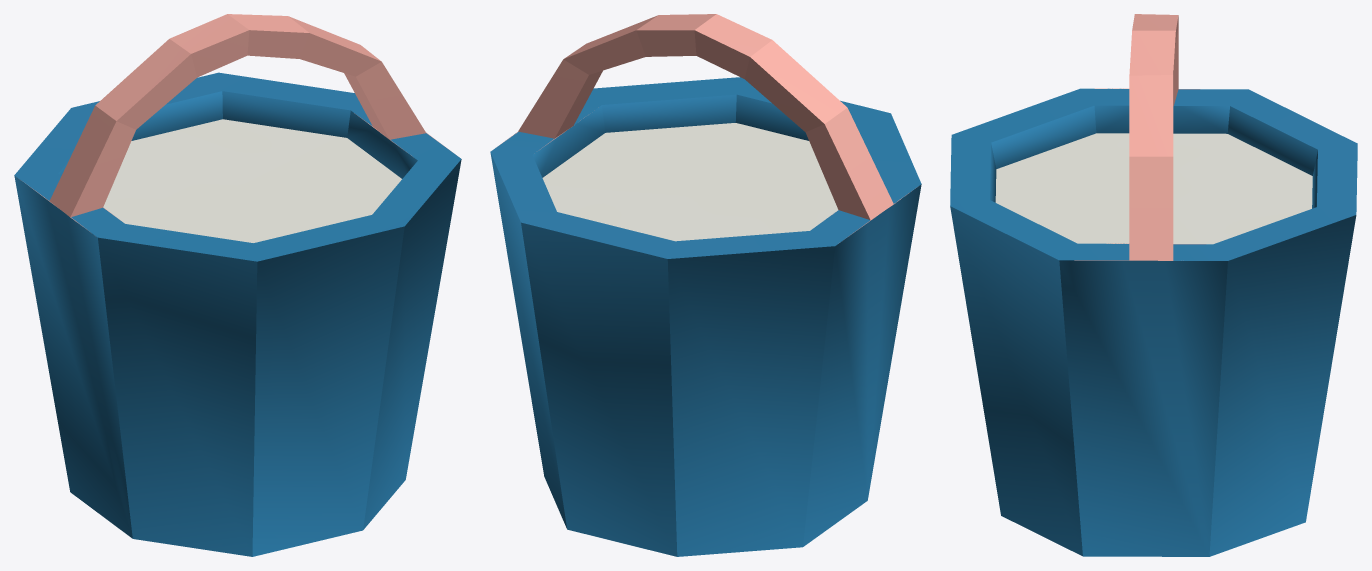
The model's file is bucket2.fbx.
3 renders of one model, left to right at view 1: azimuth 30°, elevation 25°; view 2: azimuth 150°, elevation 25°; view 3: azimuth 270°, elevation 25°, orthographic.
Parts seen in each view (by area): view 1: bucket; view 2: bucket; view 3: bucket.
Part boxes in pixels (x1=…): bucket: x1=14, y1=14, x2=461, y2=556; bucket: x1=490, y1=14, x2=921, y2=556; bucket: x1=950, y1=14, x2=1357, y2=556.
Size of the model in its own units: 230 by 287 by 230.
